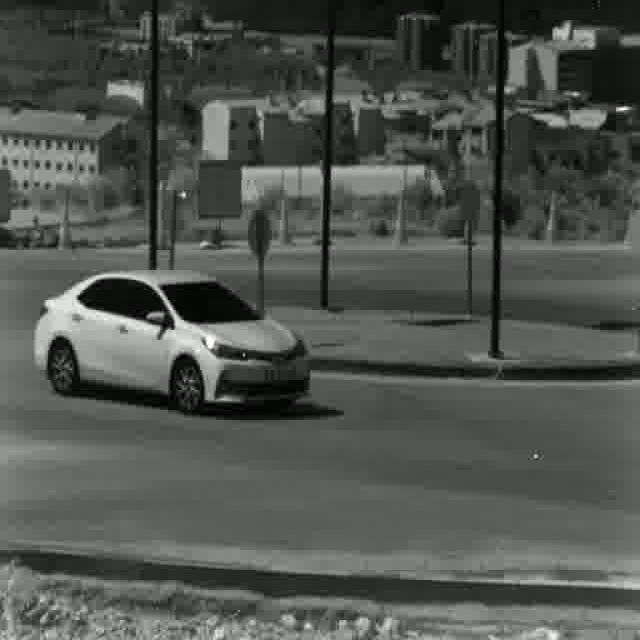Car: (34, 271, 309, 418)
